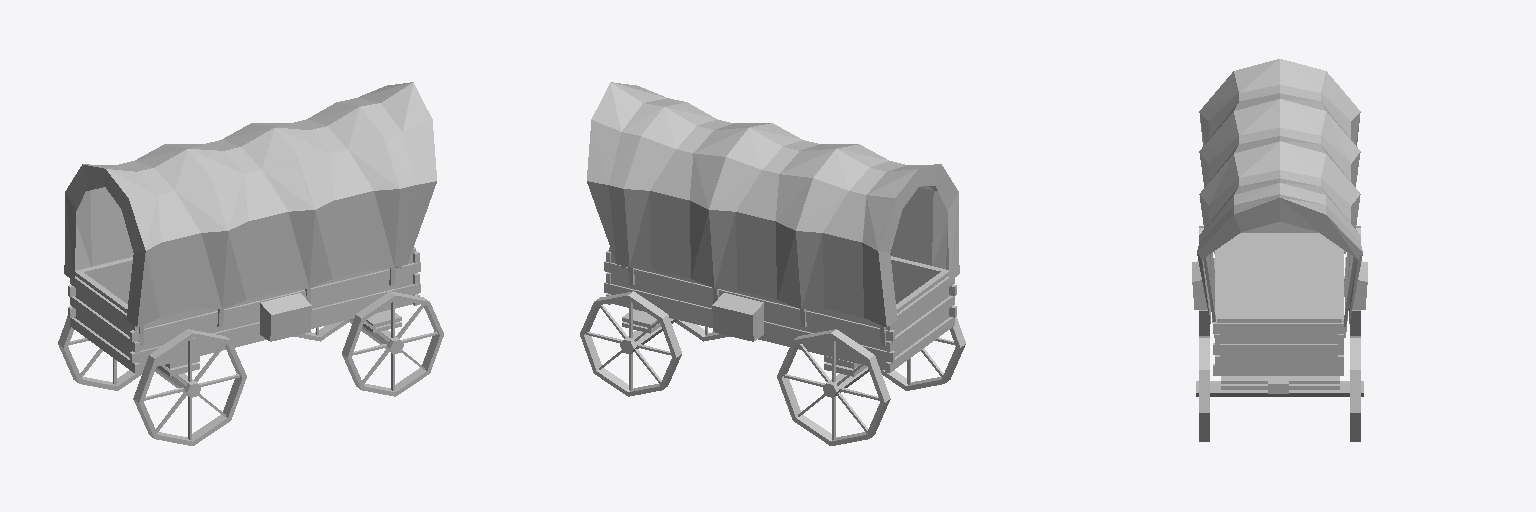
Rendered from BG_western_wagon.obj.
3 views of the same model, side by side, from view 1: azimuth 30°, elevation 25°; view 2: azimuth 150°, elevation 25°; view 3: azimuth 270°, elevation 25° (orthographic).
Visible parts, largest first — view 1: Western_Wagon Roof, Western_Wagon; view 2: Western_Wagon Roof, Western_Wagon; view 3: Western_Wagon, Western_Wagon Roof.
Boxes of the visible parts, x1=… form: Western_Wagon Roof: x1=64, y1=82, x2=436, y2=326; Western_Wagon: x1=58, y1=233, x2=443, y2=445; Western_Wagon Roof: x1=587, y1=82, x2=959, y2=326; Western_Wagon: x1=580, y1=234, x2=965, y2=445; Western_Wagon: x1=1192, y1=222, x2=1367, y2=441; Western_Wagon Roof: x1=1197, y1=59, x2=1362, y2=323.
Size of the model in its own units: 35.06 by 28.79 by 16.9.